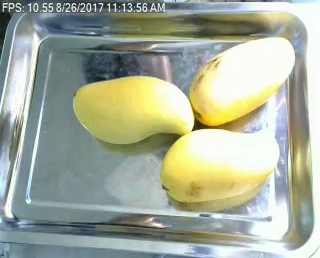Mango: (190, 35, 297, 128), (160, 125, 280, 203), (72, 71, 198, 144)
